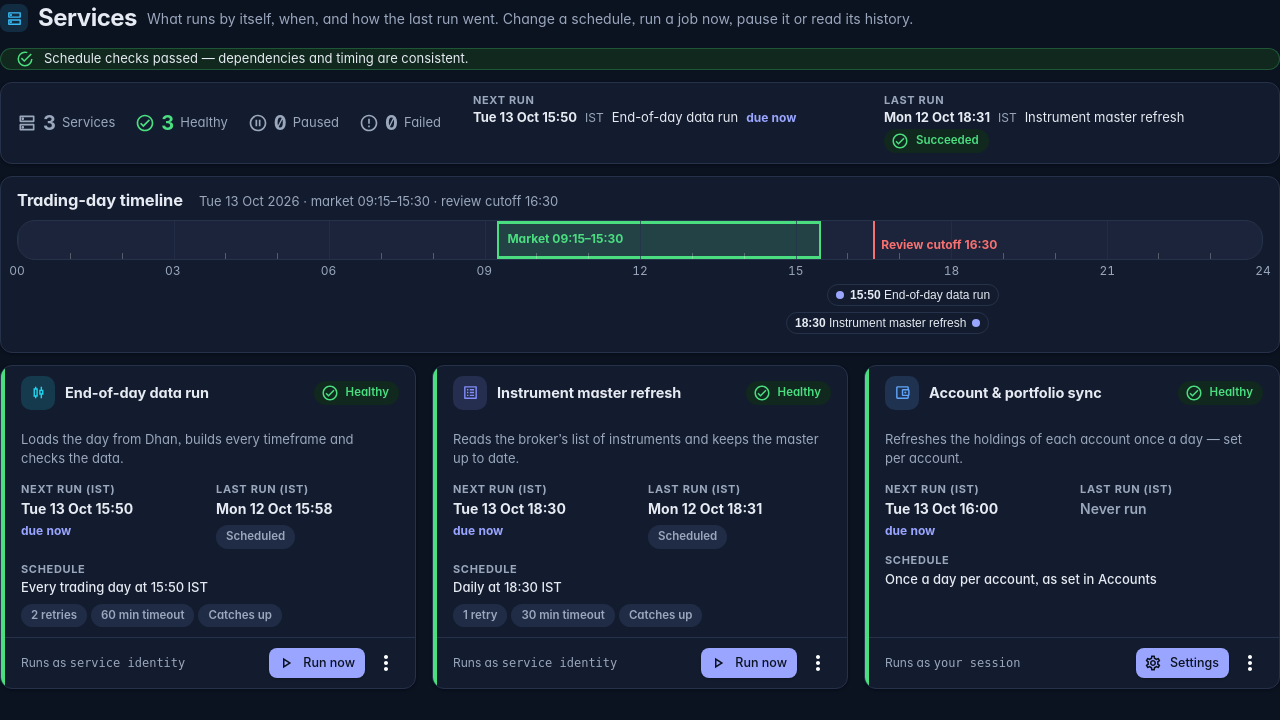
Services: on a phone › opens Configure from the menu of a card
This screenshot has width=1280, height=720.
Click the button named "Actions for End-of-day data run" at (386, 663), box x1=369 y1=646 x2=403 y2=680
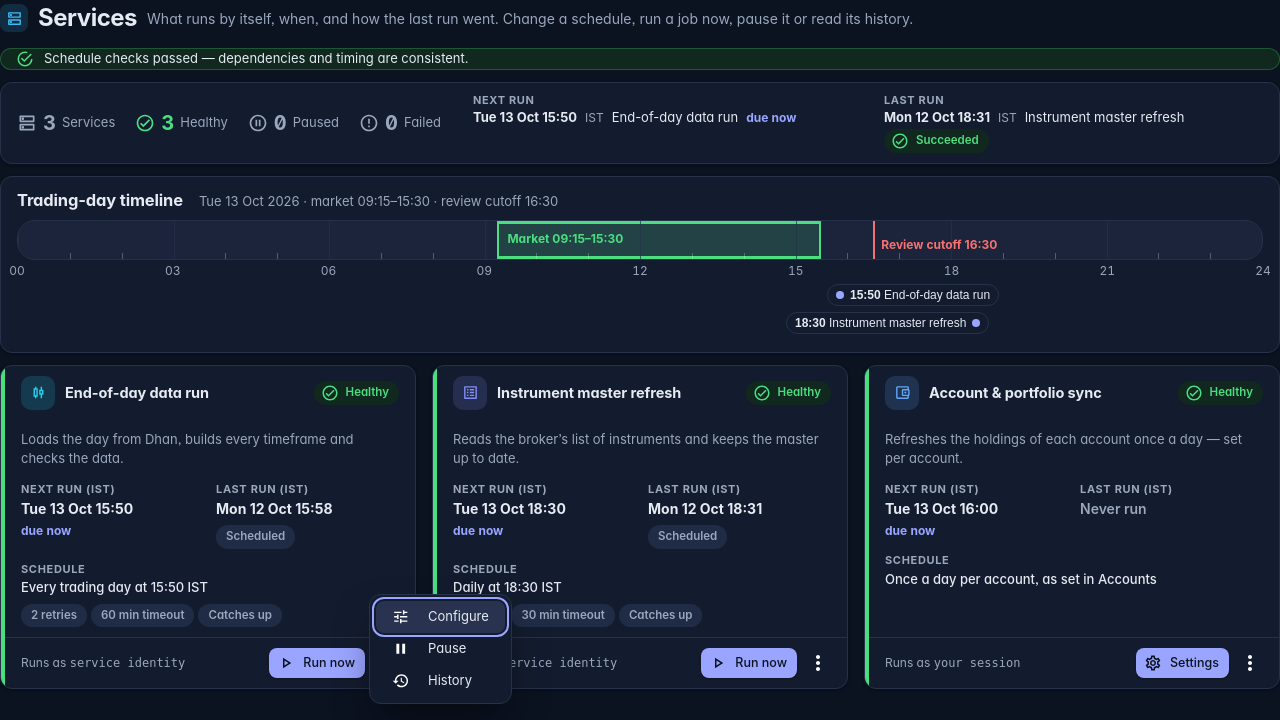
Click the menu item "Configure" at (440, 617), box x1=376 y1=601 x2=505 y2=633
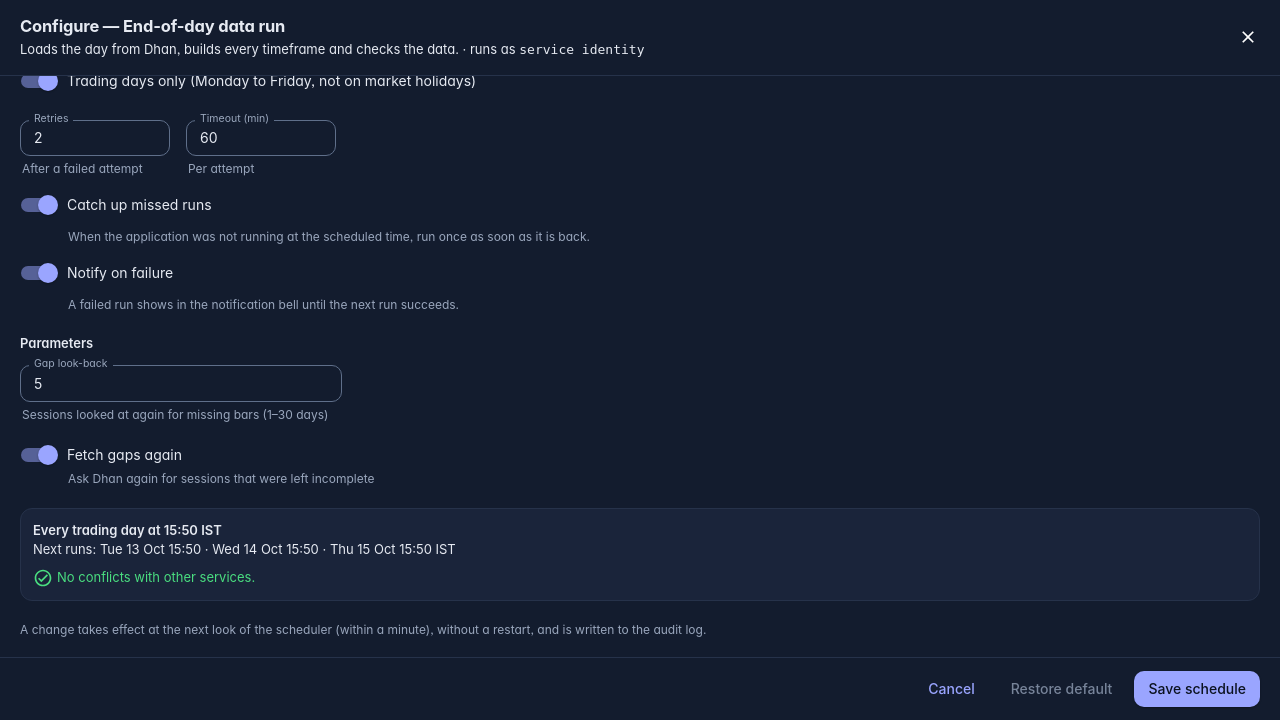
Now the dialog named "Configure — End-of-day data run" is shown
Now the element named "Preview" is shown, box x1=20 y1=508 x2=1260 y2=601
